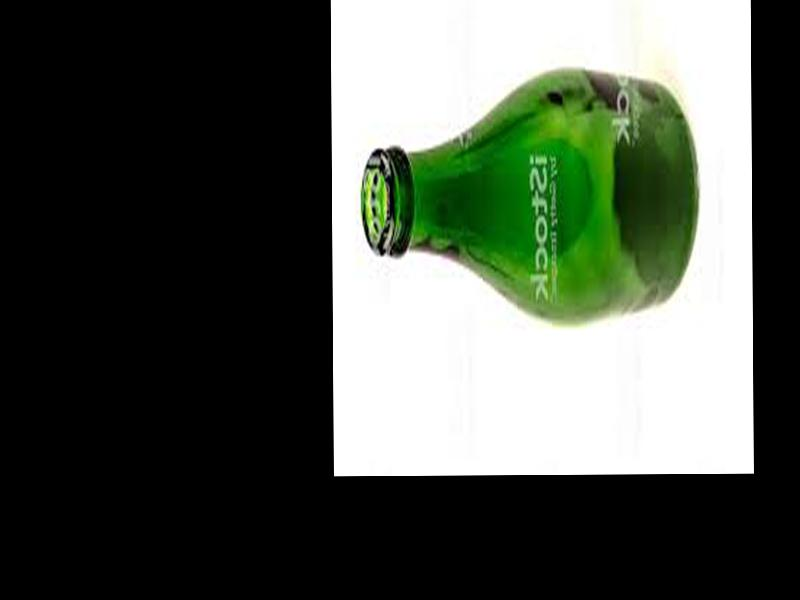Beer: (358, 66, 699, 327)
